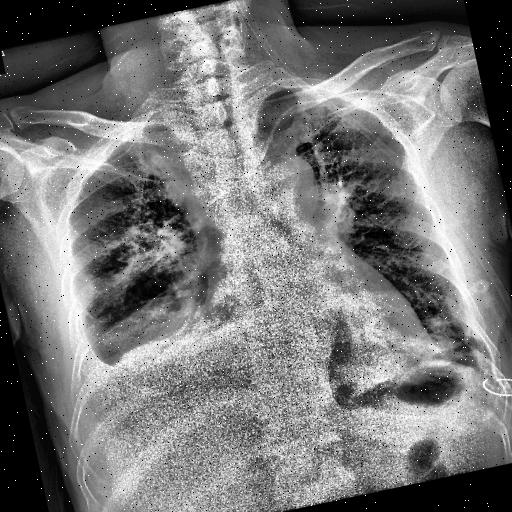0- Aortic enlargement: (252, 152, 326, 222), (254, 152, 320, 219)
10- Pleural effusion: (47, 215, 243, 479), (66, 276, 248, 400), (63, 302, 227, 416)
11- Pleural thickening: (79, 102, 230, 252), (47, 252, 110, 384)
13- Pulmonary fibrosis: (404, 318, 478, 366)
3- Cardiomegaly: (198, 256, 436, 404)
6- Infiltration: (88, 203, 204, 287), (82, 288, 204, 364), (411, 286, 482, 374)
7- Lung Opacity: (155, 116, 235, 234), (82, 288, 204, 364), (88, 299, 198, 362), (420, 290, 481, 368)
